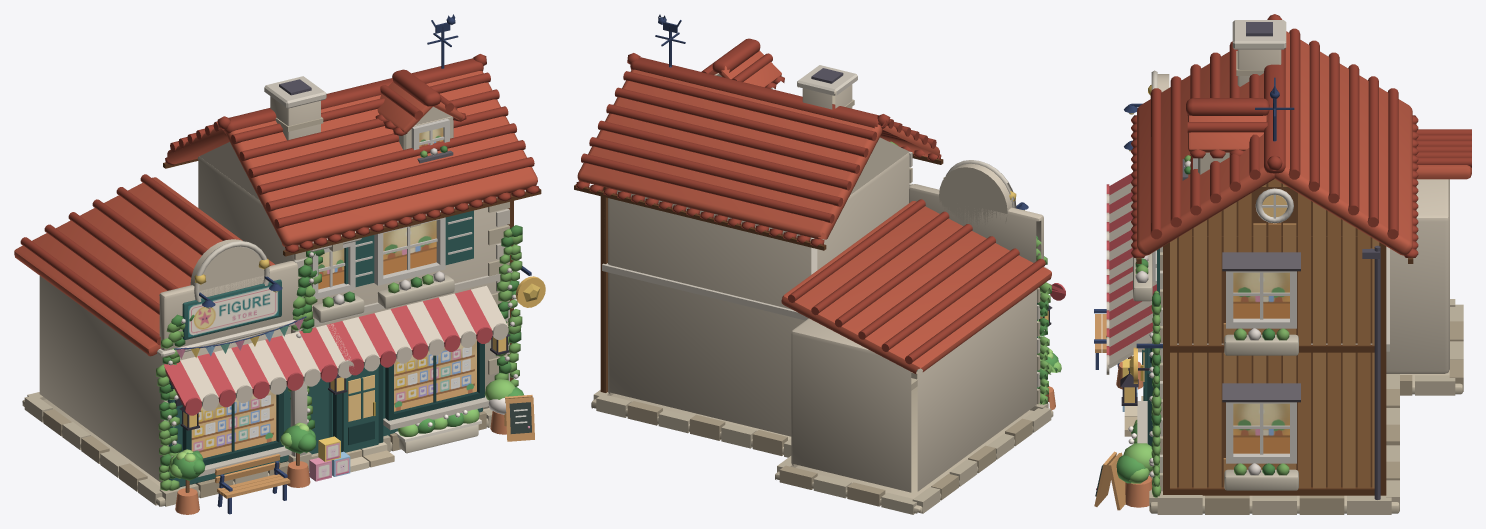
Rendered from ac_shop2_r0.glb.
3 views of the same model, side by side, from view 1: azimuth 30°, elevation 25°; view 2: azimuth 150°, elevation 25°; view 3: azimuth 270°, elevation 25° (orthographic). The views are drawn at different scales.
Visible parts, largest first — view 1: body, nomask; view 2: body; view 3: body, nomask.
Part boxes in pixels (x1,y1,x2,y2): body: (14,14,545,506); nomask: (169,378,534,514); body: (574,14,1065,514); body: (1106,14,1471,514); nomask: (1094,309,1152,510).
Size of the model in its own units: 11.56 by 10.53 by 8.63.
12 materials, 4 textured.
